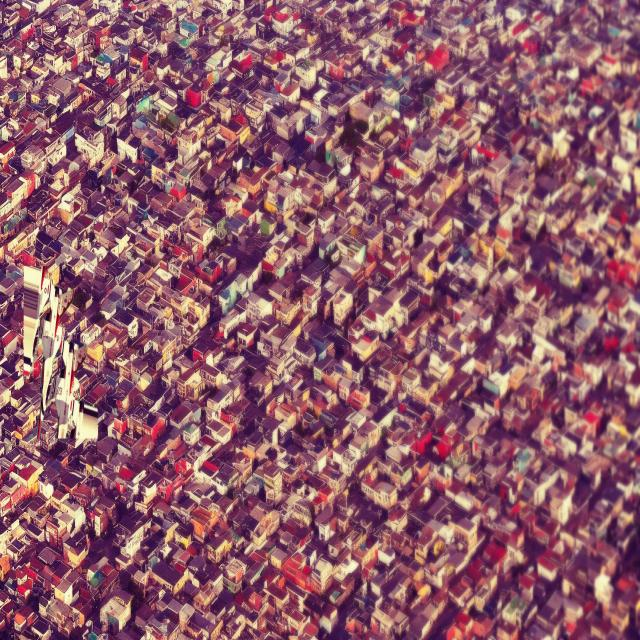airplane: (24, 265, 66, 443), (54, 328, 79, 438)
